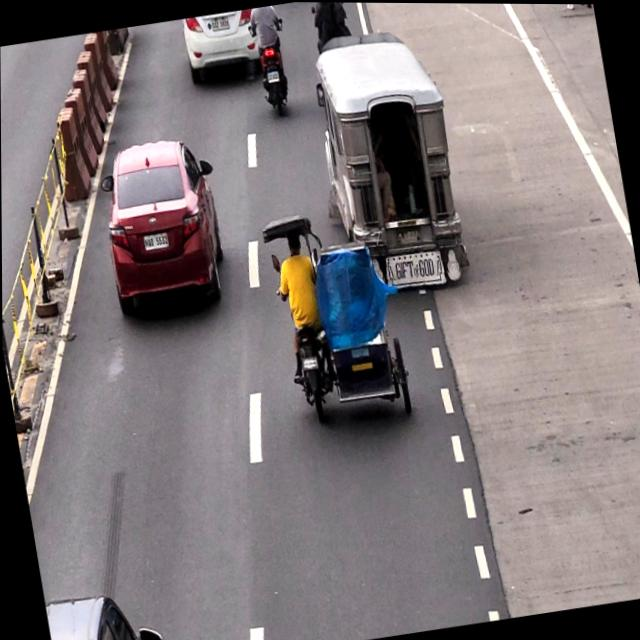Car: (92, 131, 232, 320), (179, 9, 262, 87)
Jeep: (305, 22, 472, 302)
License-Plate: (140, 229, 171, 256), (209, 13, 231, 32), (266, 69, 281, 83)
Motorcycle: (249, 4, 292, 117)
Tricycle: (255, 200, 418, 430)
